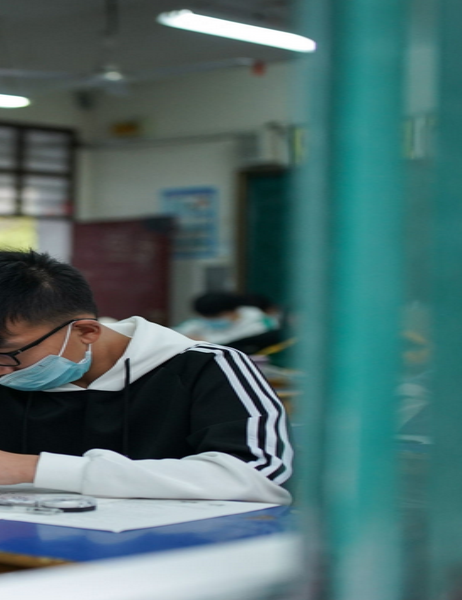mask_weared_incorrect: (1, 254, 89, 391)
